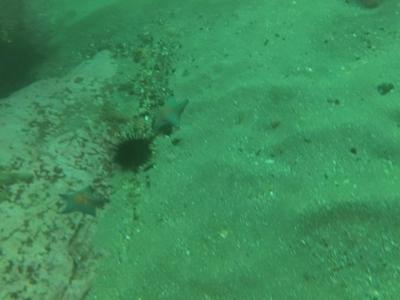urchin: (107, 128, 158, 173)
